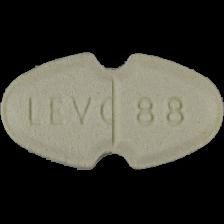60793-853: (0, 0, 224, 224)
